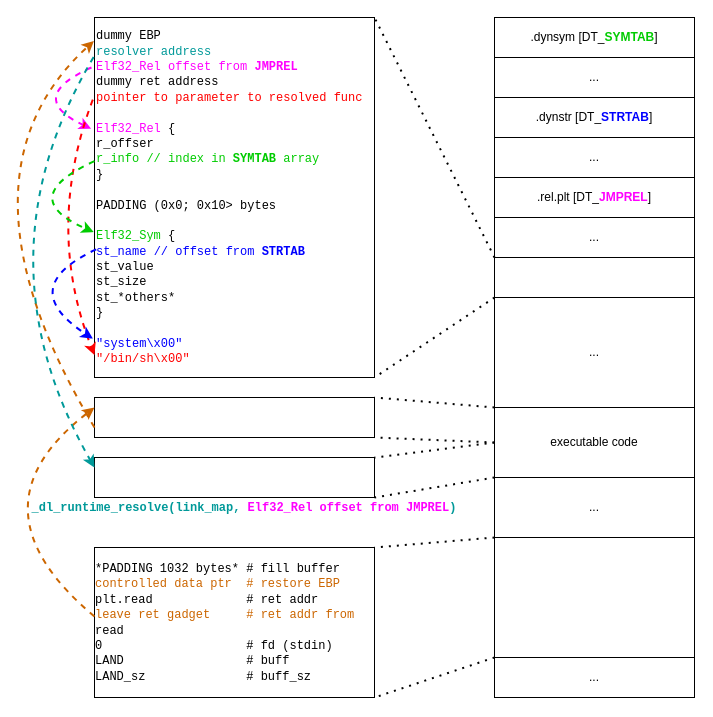
Some shapes in this 713 by 717 pixel diagram are drawn without their labels. The shapes that lost their labels are listed below. From the top down, each one's centre as x and y in pixels, then its label:
At (x=594, y=277): "controlled data".
At (x=234, y=417): "leave # EBP -> ESP ret # STACK PIVOT".
At (x=234, y=477): "push ds:0x804c004 # push link_map jmp ds:0x804c008 # _dl_runtime_resolve".
At (x=594, y=597): "stack".
